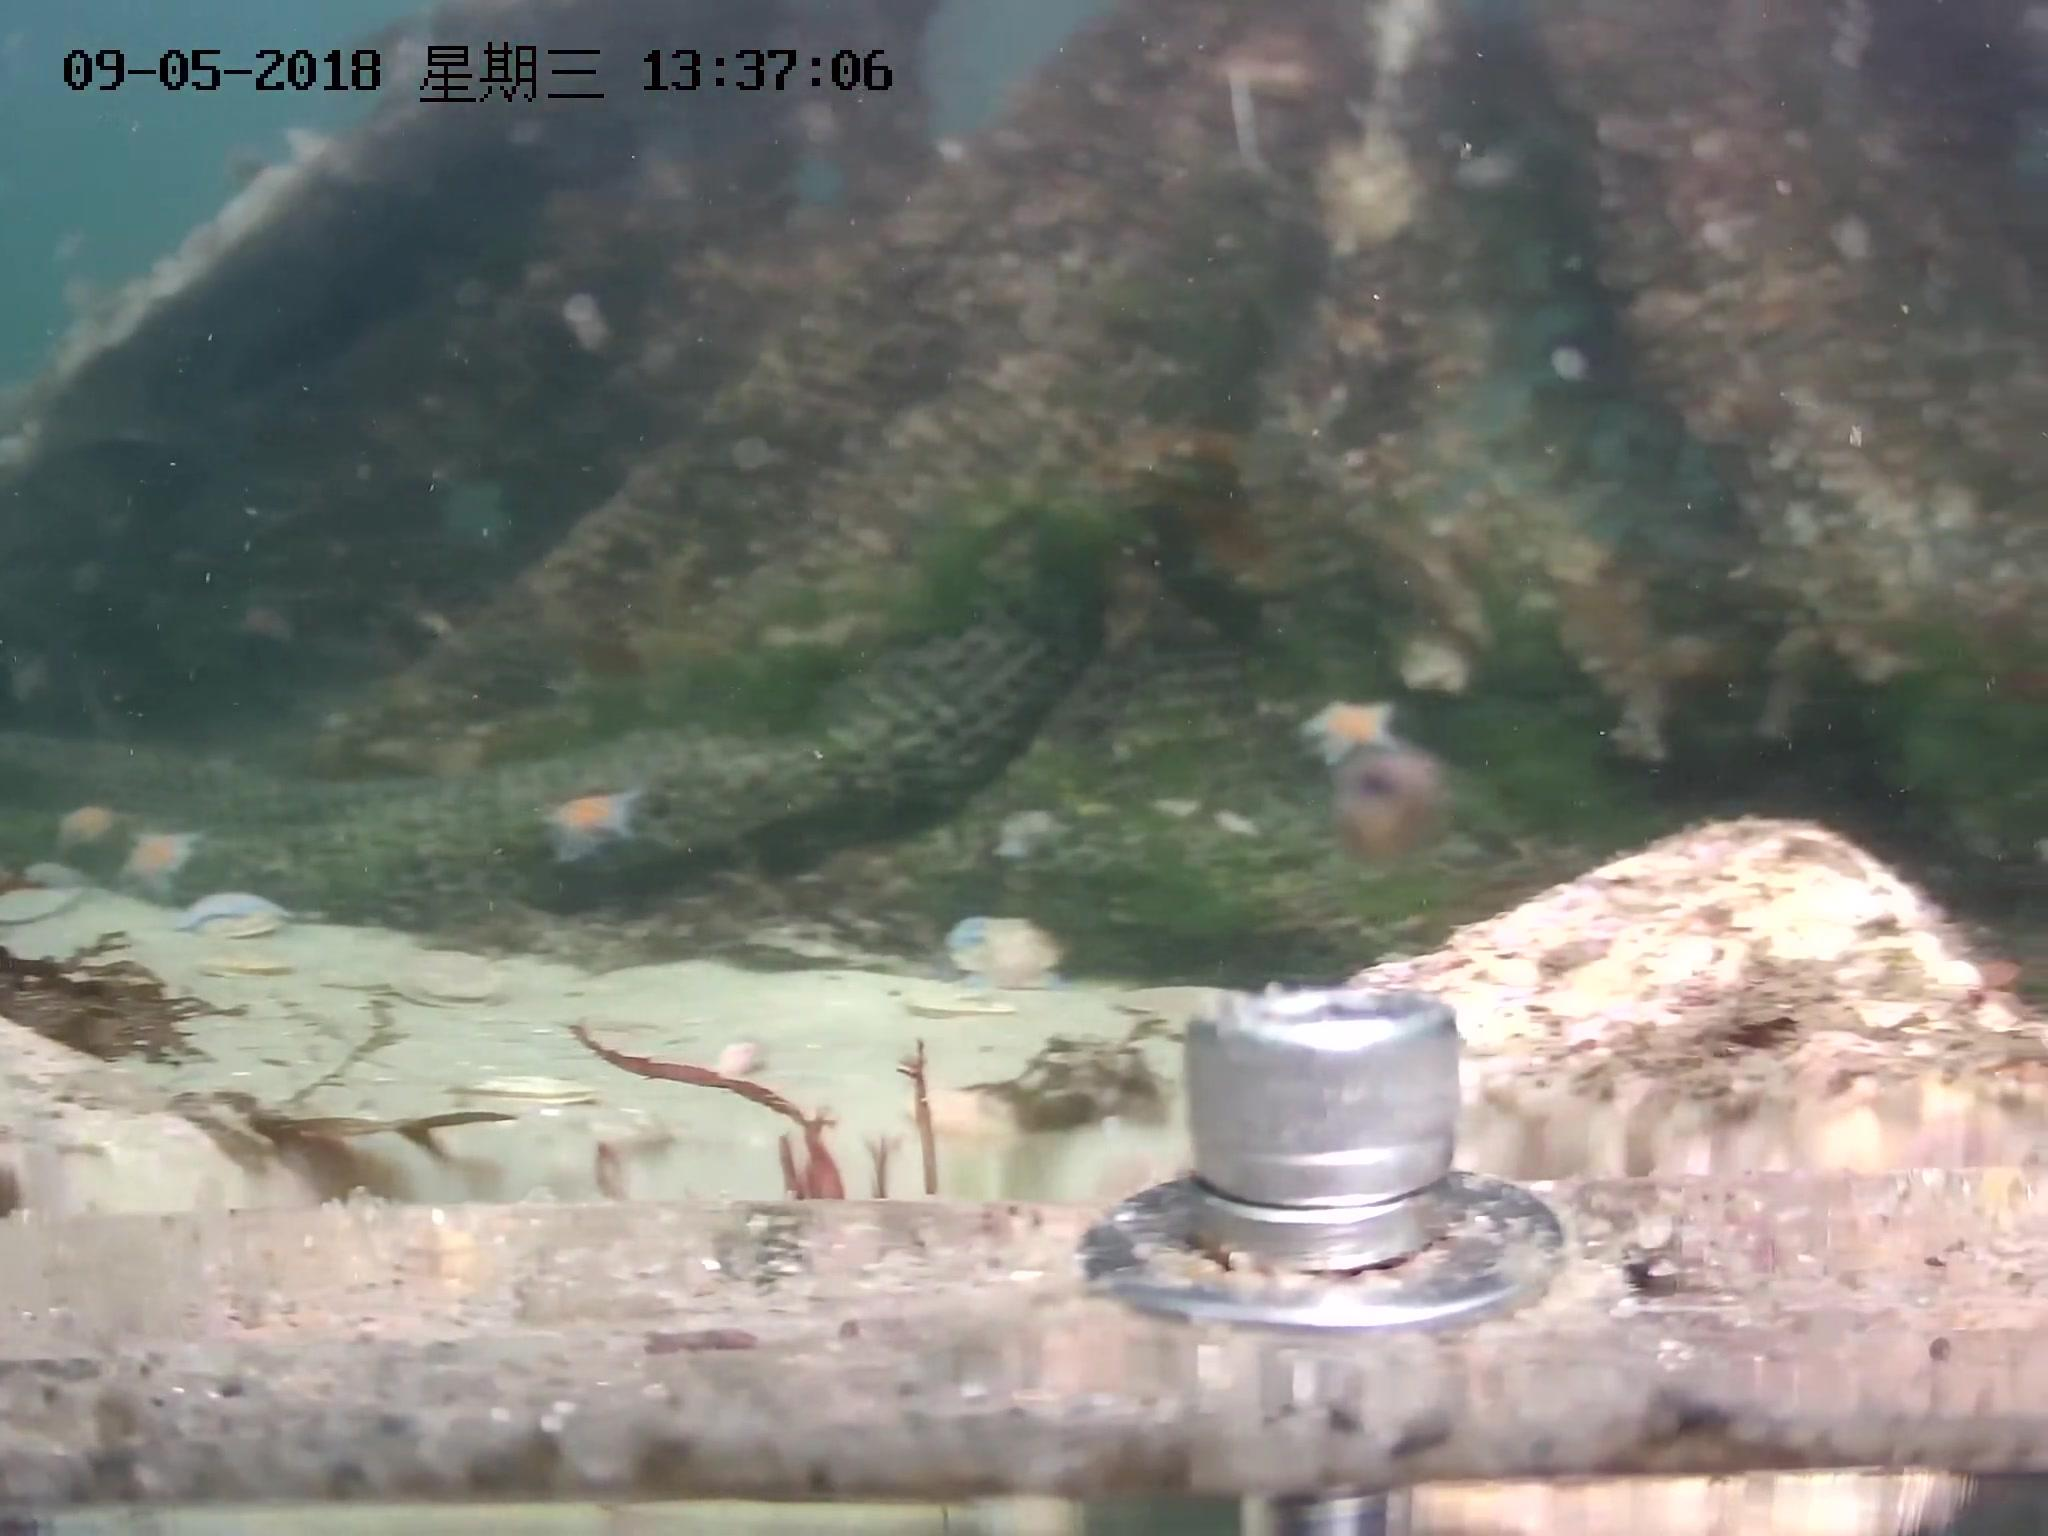scallop: (948, 920, 1068, 991), (453, 1062, 593, 1115), (389, 954, 497, 1008), (203, 950, 290, 987), (314, 962, 393, 997)
starfish: (543, 789, 651, 863), (119, 829, 219, 904), (1301, 699, 1398, 763), (177, 886, 281, 937), (56, 805, 127, 858)
